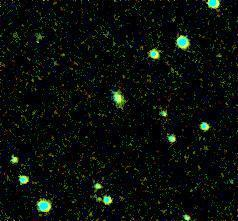star: (83, 187, 113, 217)
